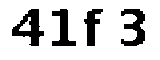1: (49, 5, 78, 50)
3: (117, 6, 151, 48)
4: (7, 7, 49, 50)
f: (82, 6, 106, 47)
